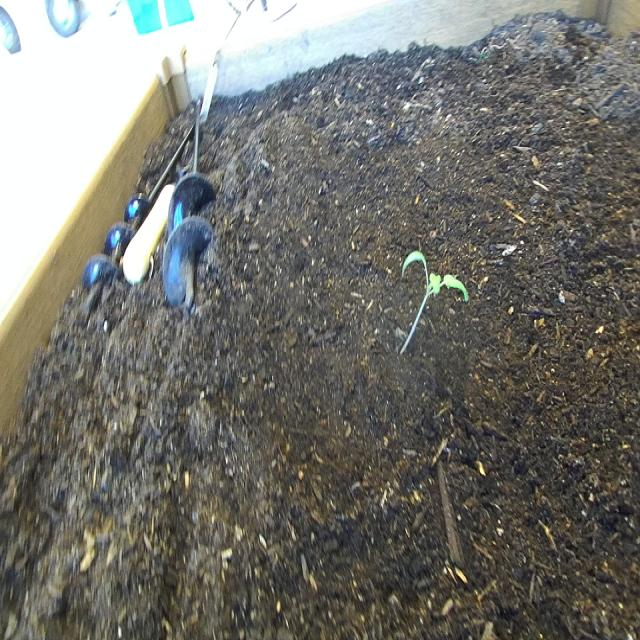Unhealthy: (395, 239, 473, 364)
